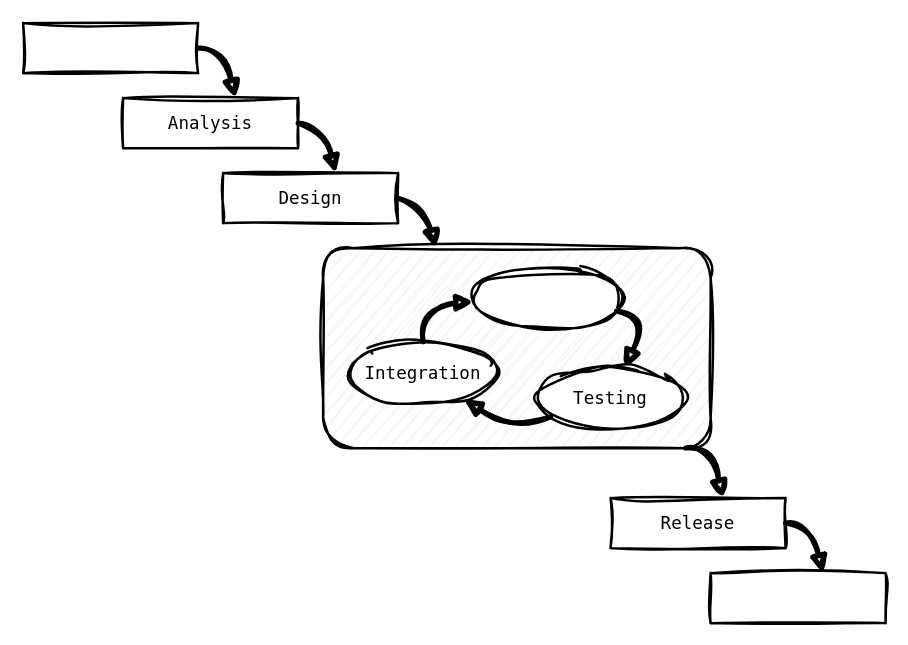
The diagram is 908 pixels wide and 645 high, and some of its shapes have lost their labels. The centre of each missing label's shape, as x and y in pixels:
"Coding" goes at pixel 547 297.
"Operation" goes at pixel 797 597.
"Requirements" goes at pixel 110 47.
